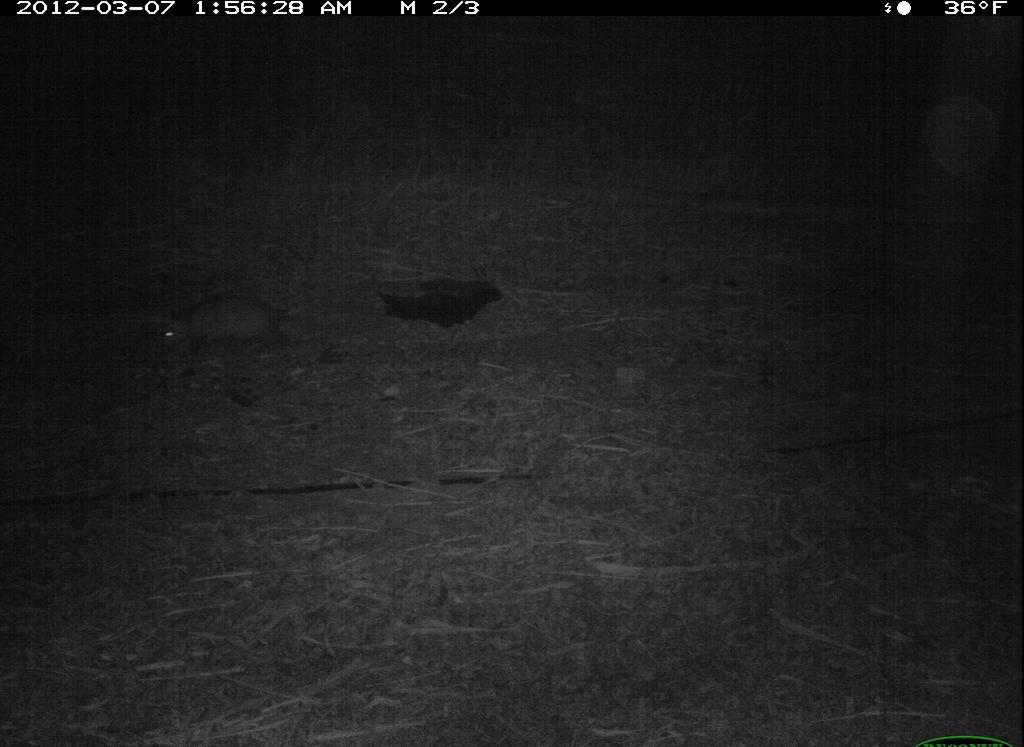opossum: (137, 281, 346, 371)
